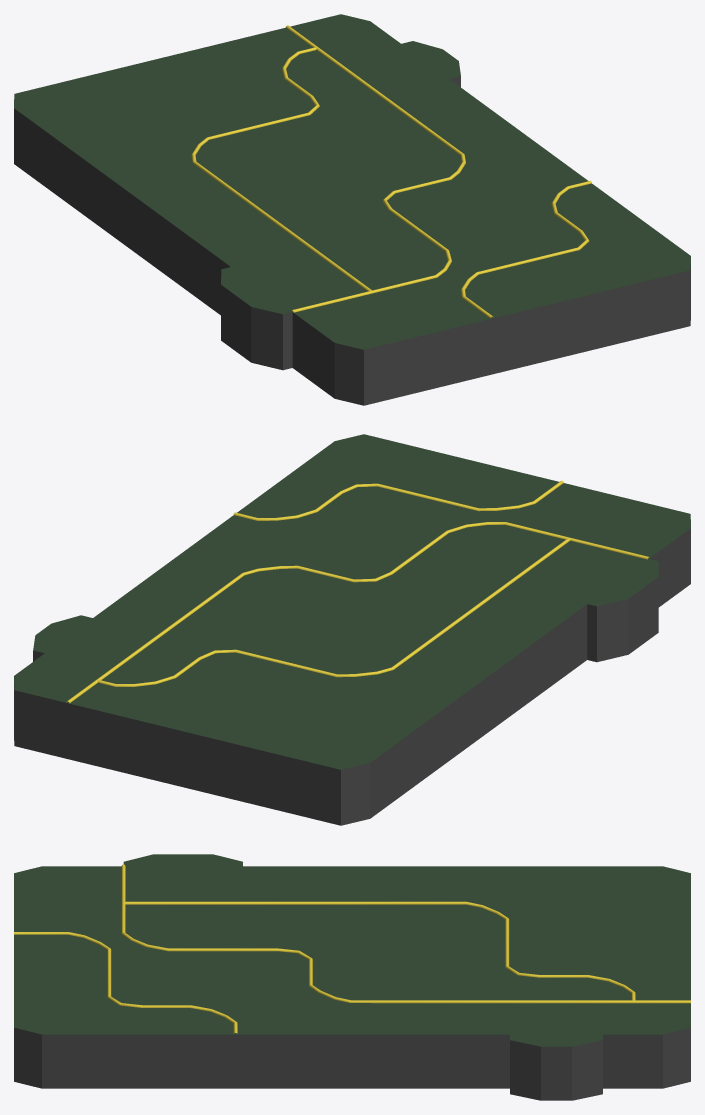
The model's file is Cricuit.fbx.
3 renders of one model, top to bottom at view 1: azimuth 30°, elevation 25°; view 2: azimuth 150°, elevation 25°; view 3: azimuth 270°, elevation 25°, orthographic. The views are drawn at different scales.
Visible parts, largest first — view 1: Cube, Plane, Plane.001, Plane.002; view 2: Cube, Plane, Plane.001, Plane.002; view 3: Cube, Plane, Plane.001, Plane.002.
Boxes of the visible parts, box(x1,y1,x2,y2) form: Cube: box(14, 14, 690, 405); Plane: box(286, 25, 465, 312); Plane.001: box(191, 47, 371, 291); Plane.002: box(461, 180, 591, 318); Cube: box(14, 434, 690, 825); Plane: box(66, 522, 649, 703); Plane.001: box(97, 538, 570, 686); Plane.002: box(233, 480, 563, 520); Cube: box(14, 854, 690, 1100); Plane: box(121, 864, 690, 1003); Plane.001: box(124, 901, 635, 1000); Plane.002: box(14, 932, 237, 1033).
Bounding box in the file's own units: 229 × 30.96 × 340.
